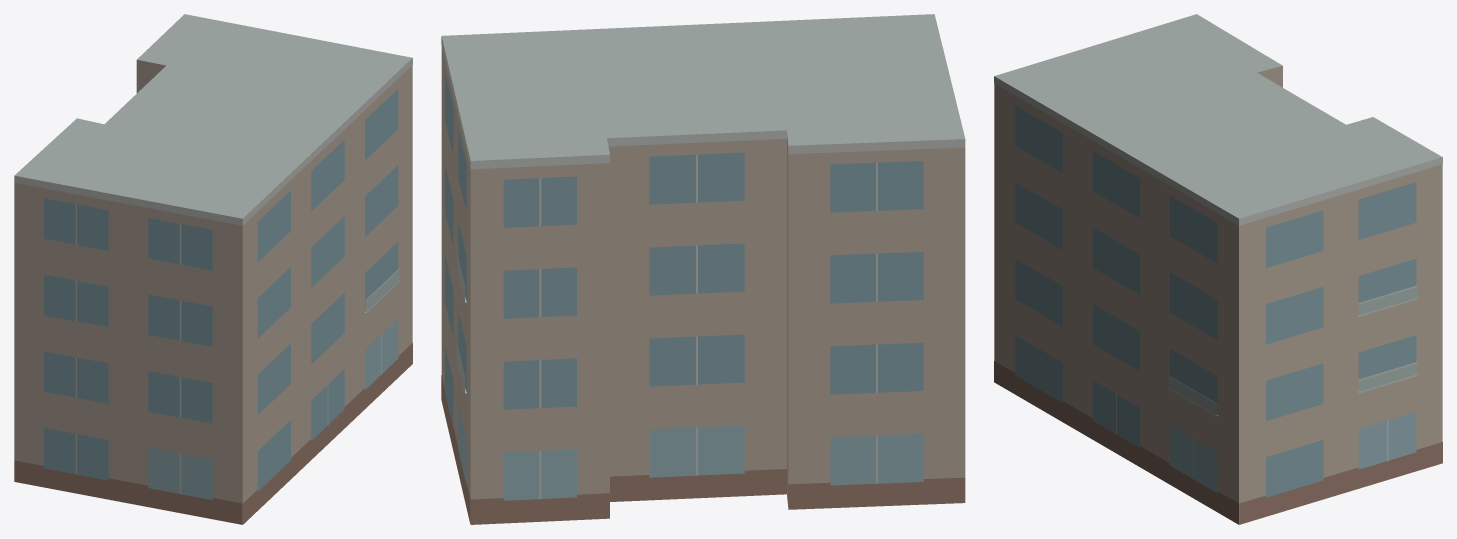
Rendered from survey-upis-32540713.glb.
3 views of the same model, side by side, from view 1: azimuth 30°, elevation 25°; view 2: azimuth 150°, elevation 25°; view 3: azimuth 270°, elevation 25° (orthographic). The views are drawn at different scales.
Visible parts, largest first — view 1: survey-upis-32540713.tmp; view 2: survey-upis-32540713.tmp; view 3: survey-upis-32540713.tmp.
Part boxes in pixels (x1=…): survey-upis-32540713.tmp: x1=14, y1=14, x2=412, y2=524; survey-upis-32540713.tmp: x1=441, y1=14, x2=965, y2=524; survey-upis-32540713.tmp: x1=994, y1=14, x2=1442, y2=524.
Bounding box in the file's own units: 15.22 × 10.6 × 14.09.
